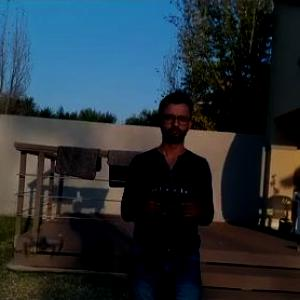follow: (116, 82, 220, 299)
